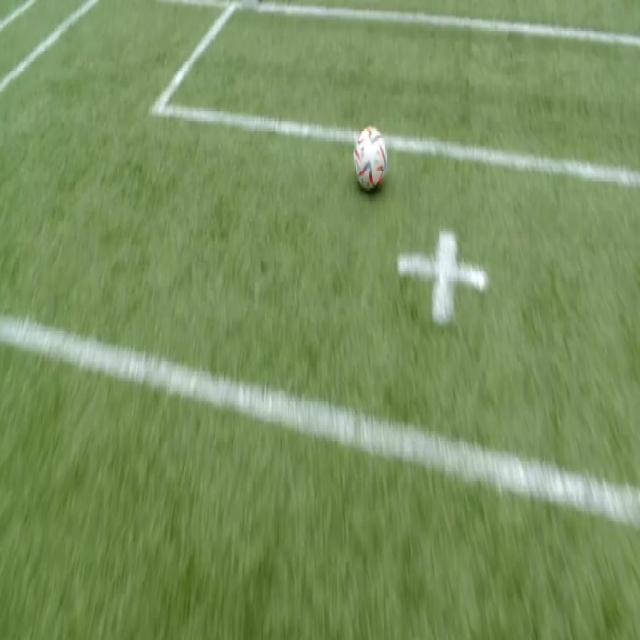ball: (354, 127, 386, 189)
